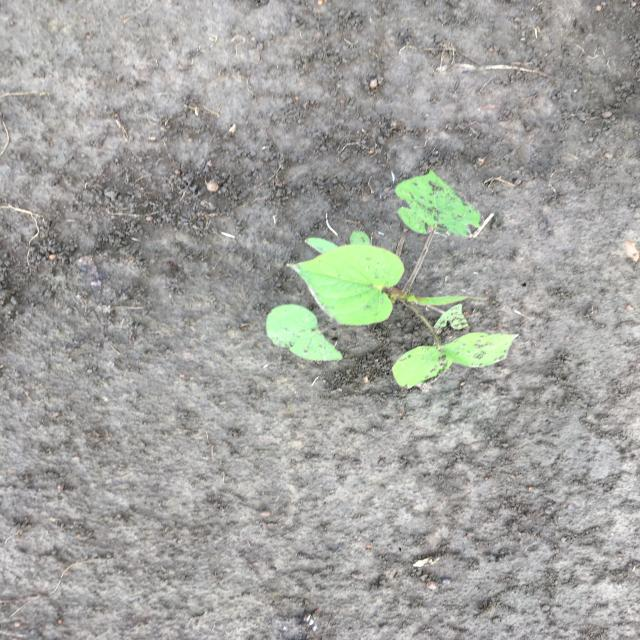MorningGlory: (263, 169, 522, 393)
